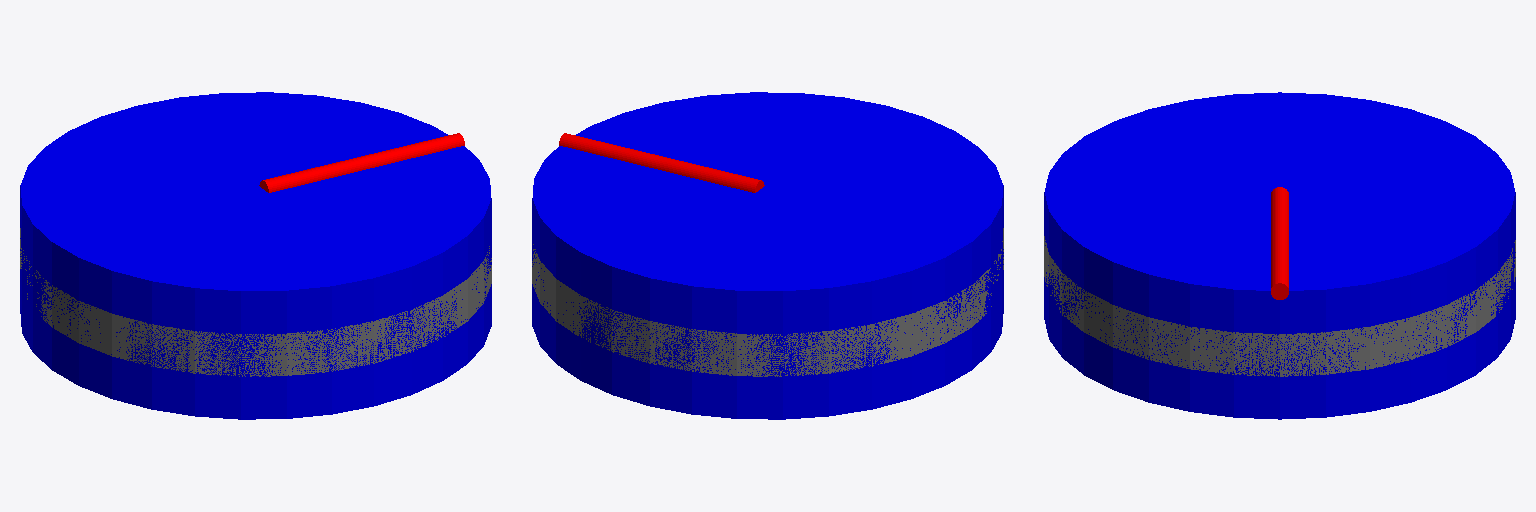
URDF robot description (bottle_cap):
<?xml version="1.0"?>
<!-- Hand conversion of my_sdfs/bottle_cap.sdf. The base link is the model's root: its position in the
     world is the pose passed to loadModel, so this one file is loaded once per cap. -->
<robot name="bottle_cap">
  <link name="base_link">
    <inertial>
      <origin xyz="0 0 -0.01" rpy="0 0 0"/>
      <mass value="0.1"/>
      <inertia ixx="0.0002" ixy="0" ixz="0" iyy="0.0002" iyz="0" izz="0.00015"/>
    </inertial>
    <visual>
      <geometry><cylinder radius="0.025" length="0.005"/></geometry>
      <material name="cap_base_grey"><color rgba="0.5 0.5 0.5 0"/></material>
    </visual>
    <collision>
      <geometry><cylinder radius="0.024" length="0.005"/></geometry>
    </collision>
  </link>

  <link name="cap_link">
    <inertial>
      <mass value="0.05"/>
      <inertia ixx="0.0001" ixy="0" ixz="0" iyy="0.0001" iyz="0" izz="0.00008"/>
    </inertial>
    <visual>
      <geometry><cylinder radius="0.025" length="0.015"/></geometry>
      <material name="cap_blue"><color rgba="0 0 1 1"/></material>
    </visual>
    <!-- Red line on the top, which makes the cap's angle visible. -->
    <visual>
      <origin xyz="0.013 0 0.0075" rpy="0 1.574 0"/>
      <geometry><cylinder radius="0.001" length="0.024"/></geometry>
      <material name="cap_line_red"><color rgba="1 0 0 1"/></material>
    </visual>
    <collision>
      <geometry><cylinder radius="0.024" length="0.015"/></geometry>
    </collision>
  </link>

  <joint name="cap_to_base" type="revolute">
    <parent link="base_link"/>
    <child link="cap_link"/>
    <axis xyz="0 0 1"/>
    <limit lower="-3.14" upper="3.14" effort="10" velocity="1"/>
  </joint>
</robot>

--- What the picture shows (computed from the rendered views, not written in the file) ---
3 views of the same robot in one strip: view 1: azimuth 30°, elevation 25°; view 2: azimuth 150°, elevation 25°; view 3: azimuth 270°, elevation 25° (orthographic).
Model bottle_cap with 2 links and 1 joints (1 revolute), rooted at base_link, posed all joints at 0.
Visible links, largest first — view 1: cap_link, base_link; view 2: cap_link, base_link; view 3: cap_link, base_link.
Boxes of the visible links, x1,y1,x2,y2 form: cap_link: (20,92,491,419); base_link: (20,228,491,376); cap_link: (532,92,1003,419); base_link: (532,228,1003,376); cap_link: (1044,92,1515,419); base_link: (1044,236,1515,376).
Size in the robot's own frame: 0.05 by 0.05 by 0.016 metres.
Geometry: primitives only (box / cylinder / sphere), no mesh files.
